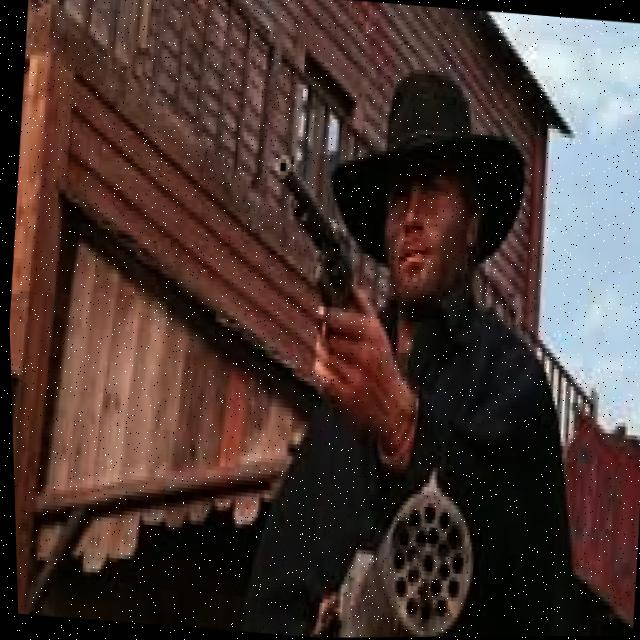firearm: (286, 447, 479, 638)
pistol: (254, 149, 365, 345)
